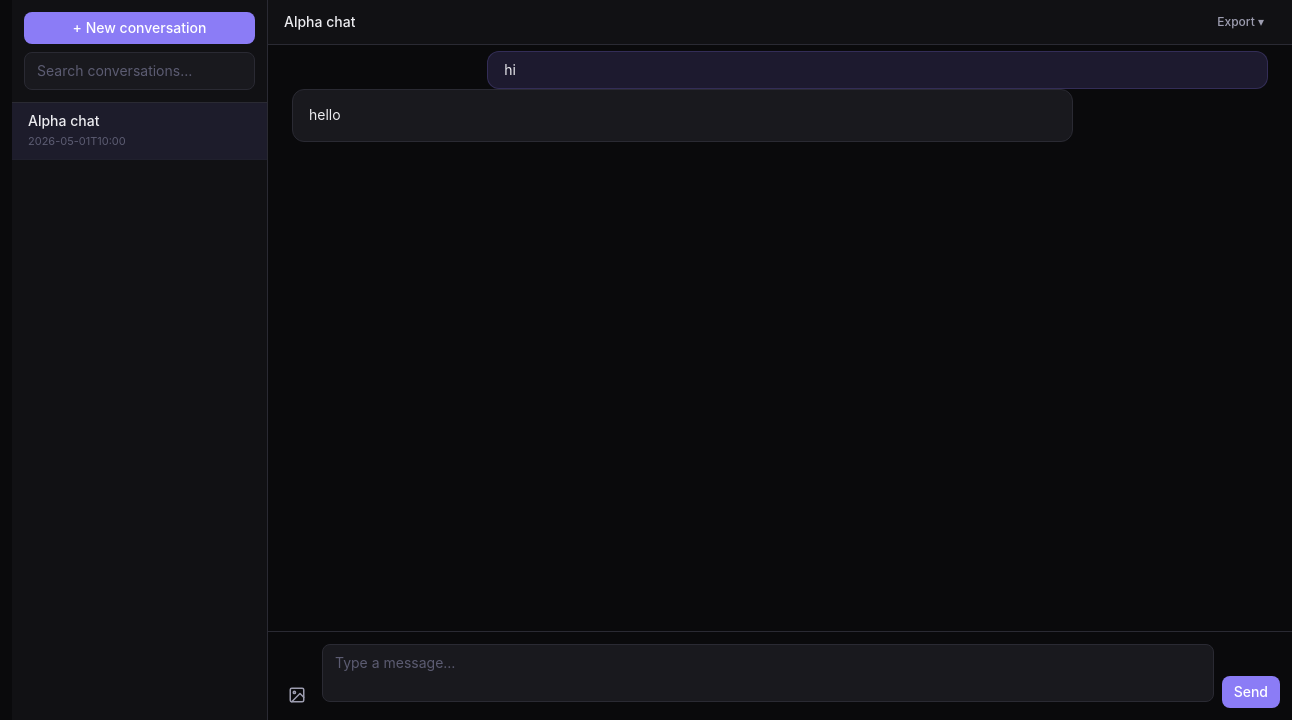
ChatView conversation search › results render with snippet markup and replace the conversation list
This screenshot has width=1292, height=720.
Check: the button with test id "chat-export-button" is enabled, box x1=1205 y1=8 x2=1276 y2=36
Type "fluffy" into the field with test id "chat-search-input" at (140, 71), box x1=24 y1=52 x2=255 y2=90
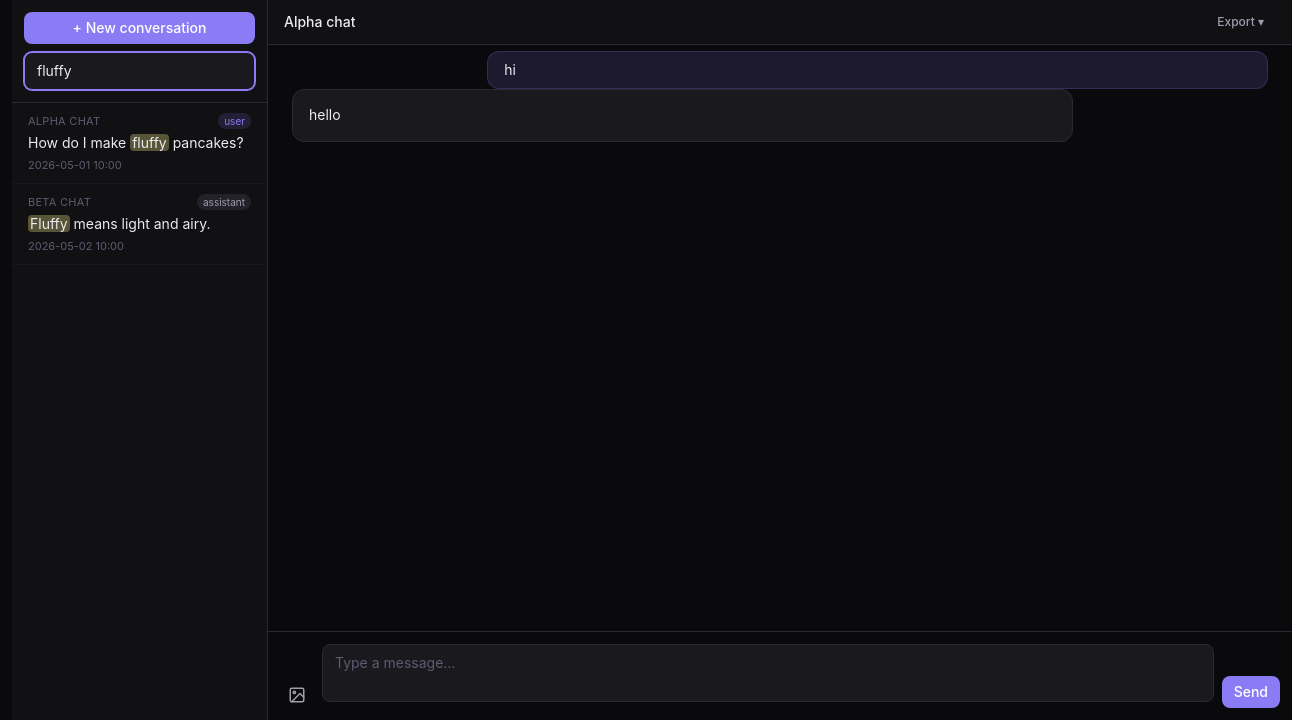
Check: the element with test id "chat-search-results" is shown, box x1=12 y1=103 x2=267 y2=265
Check: the button with test id "chat-search-result-msg-A" is shown, box x1=12 y1=103 x2=267 y2=184
Check: the button with test id "chat-search-result-msg-B" is shown, box x1=12 y1=184 x2=267 y2=265
